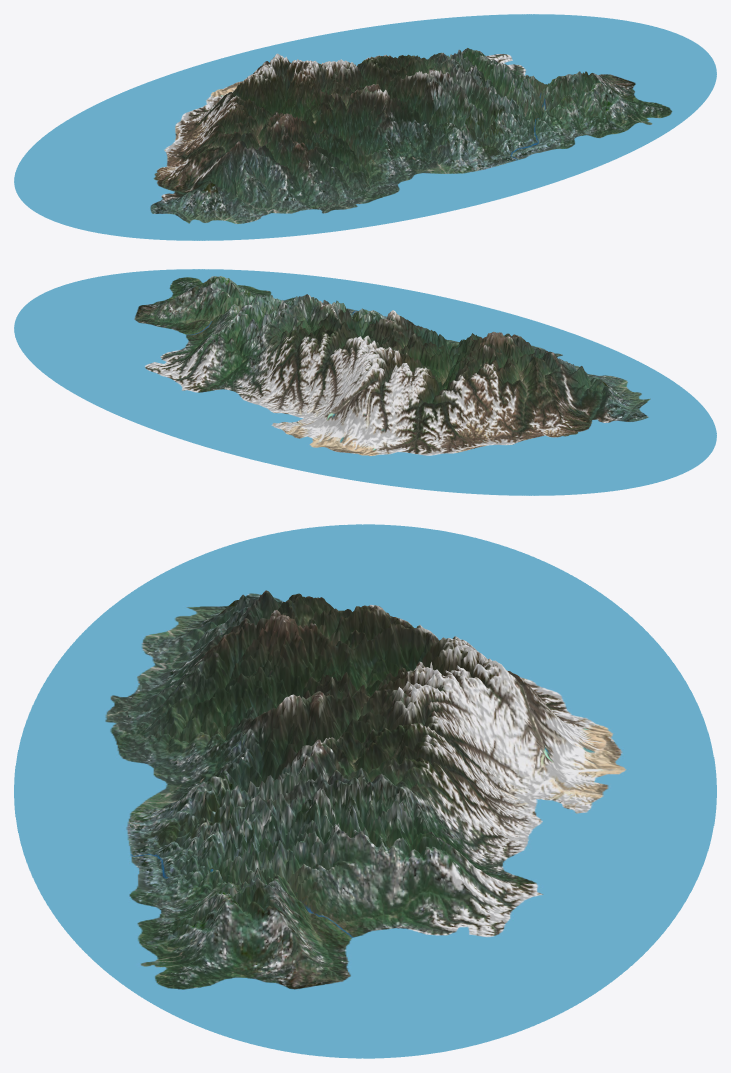
The model's file is BTN-previa-terrain.glb.
The picture shows the model from 3 angles, top to bottom: view 1: azimuth 30°, elevation 25°; view 2: azimuth 150°, elevation 25°; view 3: azimuth 270°, elevation 25°; orthographic projection. The views are drawn at different scales.
Visible parts, largest first — view 1: Butão; view 2: Butão; view 3: Butão.
Part boxes in pixels (x1,y1,x2,y2): Butão: (14,14,716,240); Butão: (14,269,716,495); Butão: (14,524,716,1058).
Bounding box in the file's own units: 2.38 × 0.2026 × 1.32.
1 material, 1 textured.
